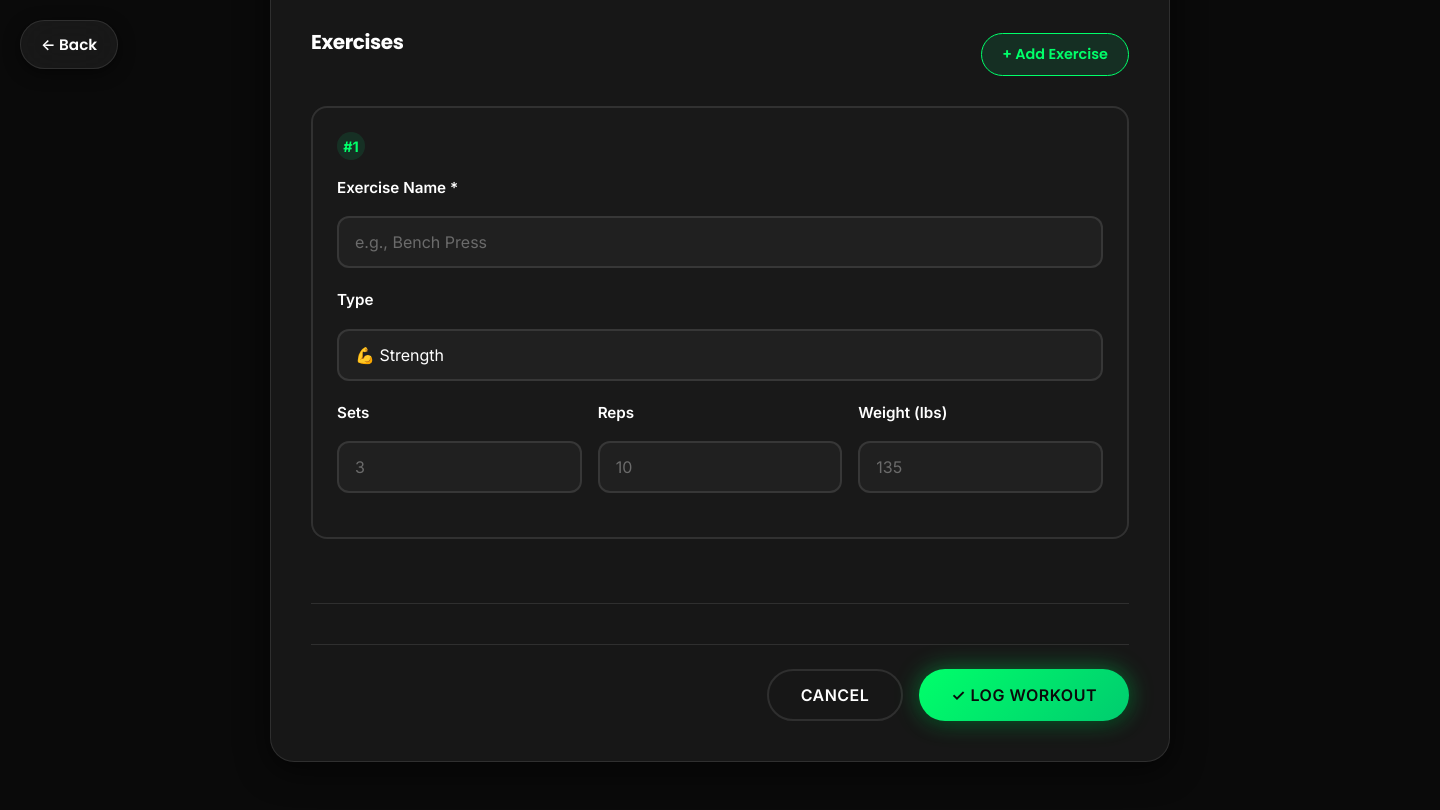
WorkoutLogger › Form Validation › should show error when workout name is empty
The image size is (1440, 810).
(page scrolled)
Step 1. Click the button "✓ Log Workout" → click(1024, 695), box [919,669,1129,721]
(page scrolled)
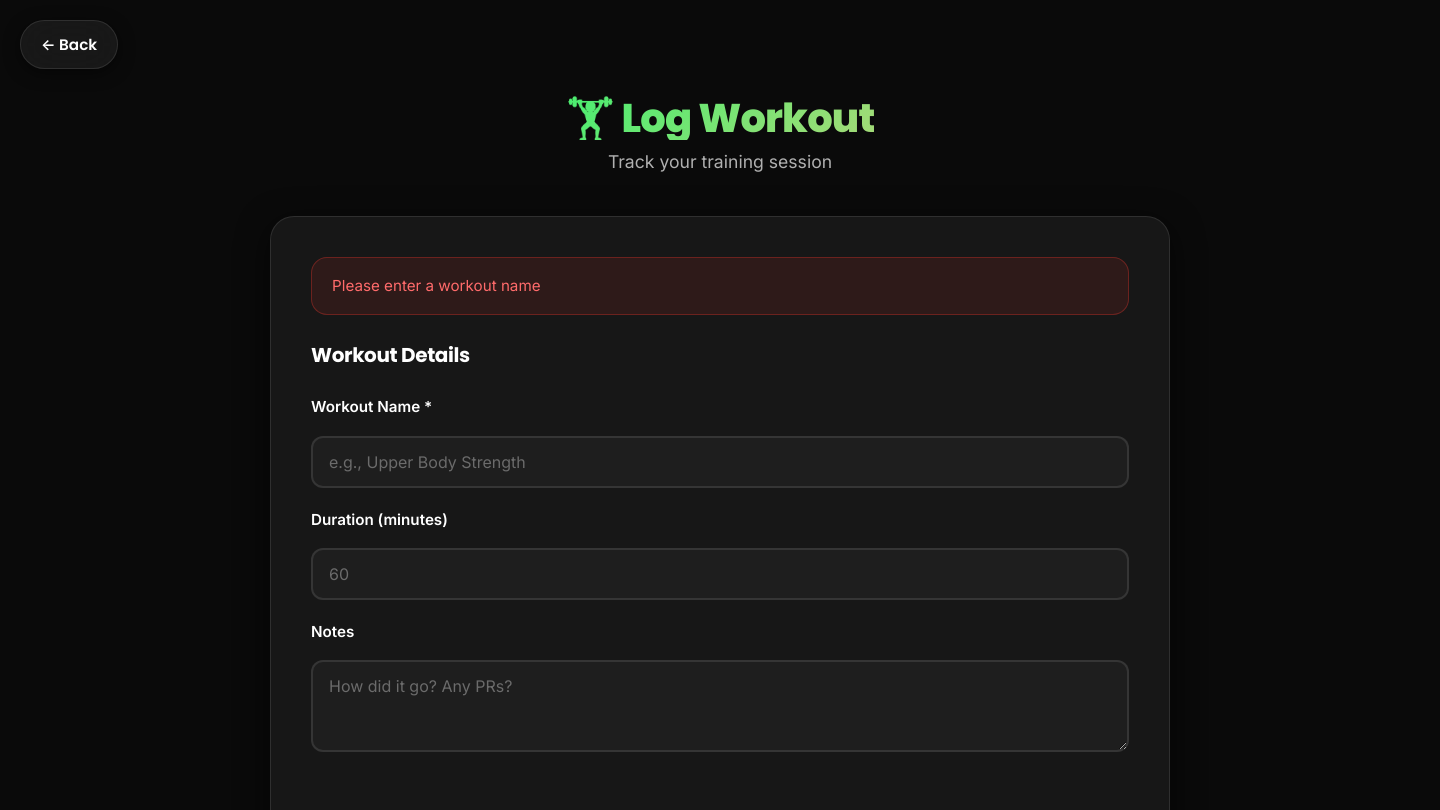
Expected: the text "Please enter a workout name" is shown, [311,257,1129,315]
